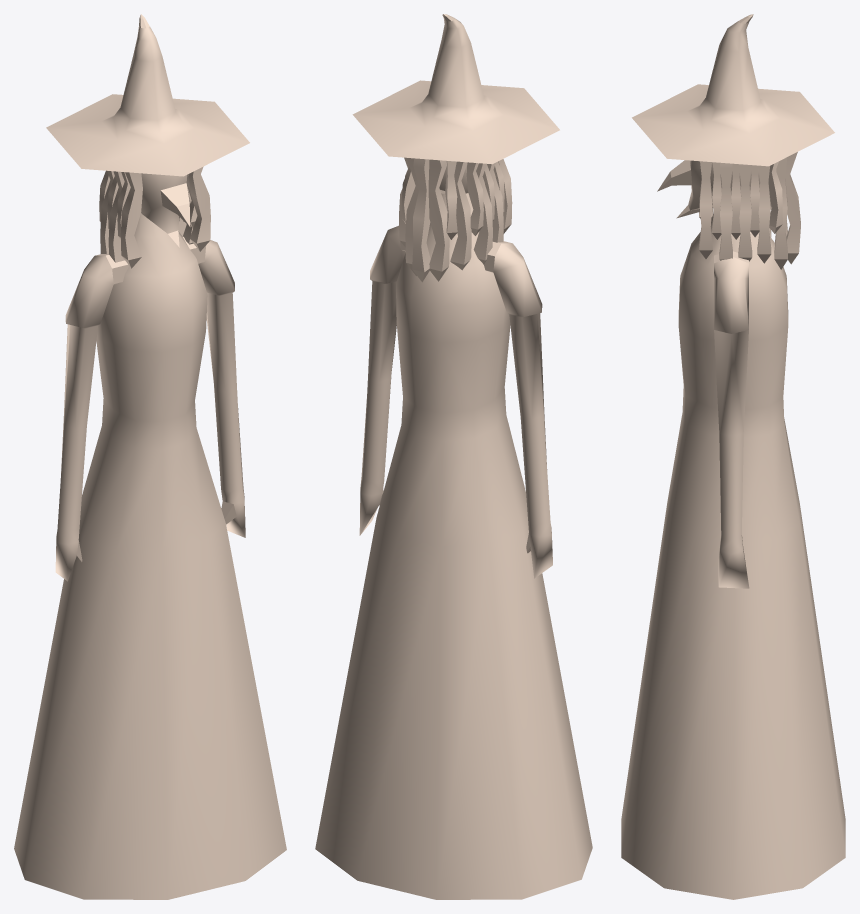
Rendered from bruja.glb.
The picture shows the model from 3 angles, left to right: view 1: azimuth 30°, elevation 25°; view 2: azimuth 150°, elevation 25°; view 3: azimuth 270°, elevation 25°; orthographic projection. The views are drawn at different scales.
Parts seen in each view (by area): view 1: Cylinder001; view 2: Cylinder001; view 3: Cylinder001.
Boxes of the visible parts, x1,y1,x2,y2 form: Cylinder001: [14, 14, 286, 899]; Cylinder001: [315, 14, 592, 899]; Cylinder001: [621, 14, 845, 899].
Bounding box in the file's own units: 0.7292 × 2.29 × 0.5657.
